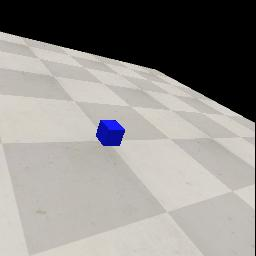box: (96, 120, 125, 146)
